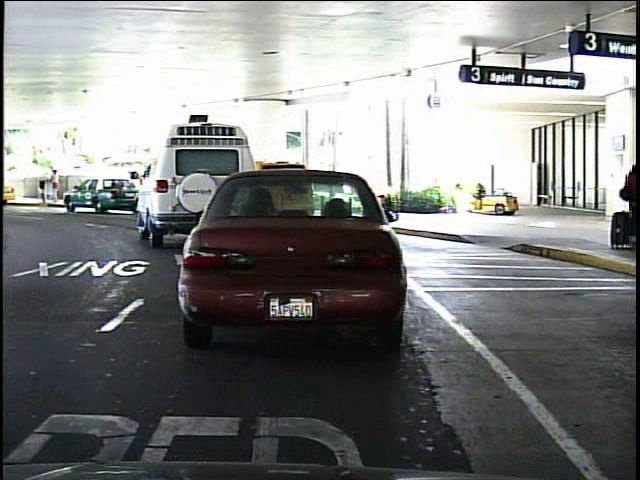person: (48, 163, 62, 202), (51, 166, 65, 203)
